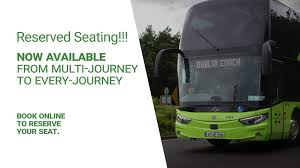bus: (152, 1, 300, 149)
